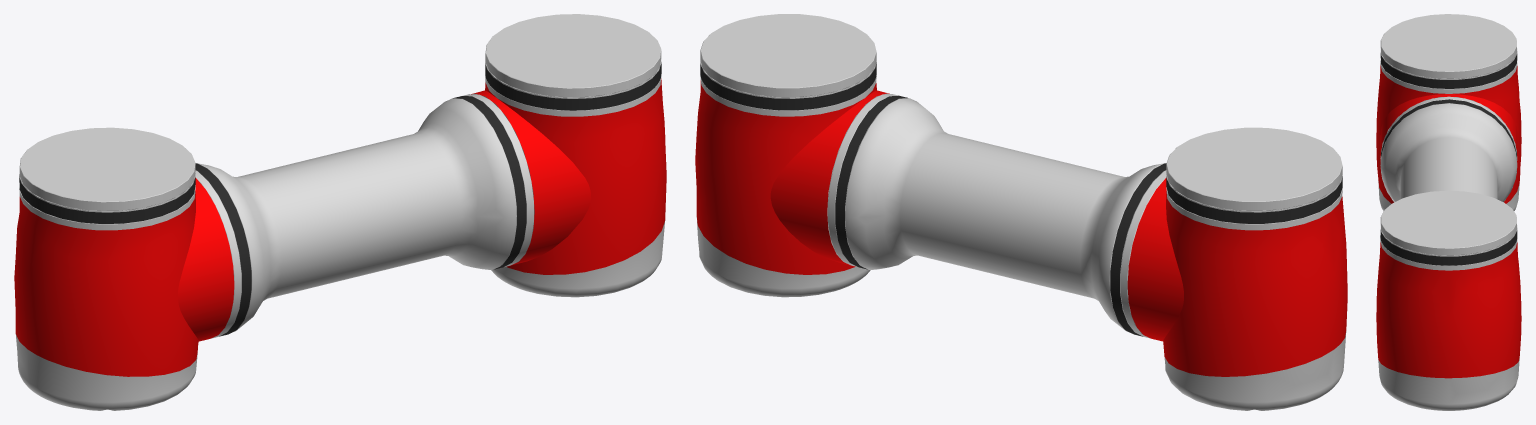
3 views of the same model, side by side, from view 1: azimuth 30°, elevation 25°; view 2: azimuth 150°, elevation 25°; view 3: azimuth 270°, elevation 25° (orthographic). The views are drawn at different scales.
Visible parts, largest first — view 1: ZU 7 02; view 2: ZU 7 02; view 3: ZU 7 02.
Boxes of the visible parts, x1,y1,x2,y2 form: ZU 7 02: (14, 14, 666, 410); ZU 7 02: (695, 14, 1347, 410); ZU 7 02: (1376, 14, 1521, 410).
Bounding box in the file's own units: 0.485 × 0.125 × 0.1576.
